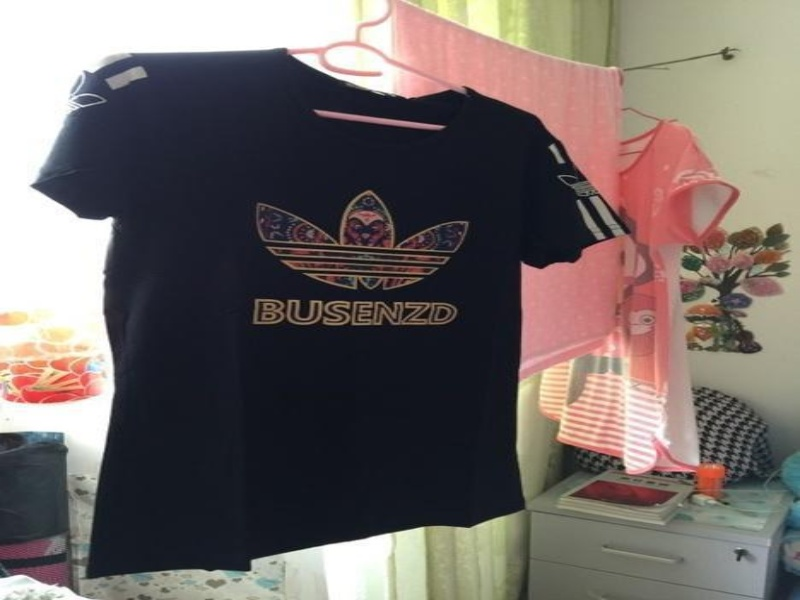short_sleeved_dress: (525, 116, 740, 481)
short_sleeved_shirt: (31, 53, 624, 578)
